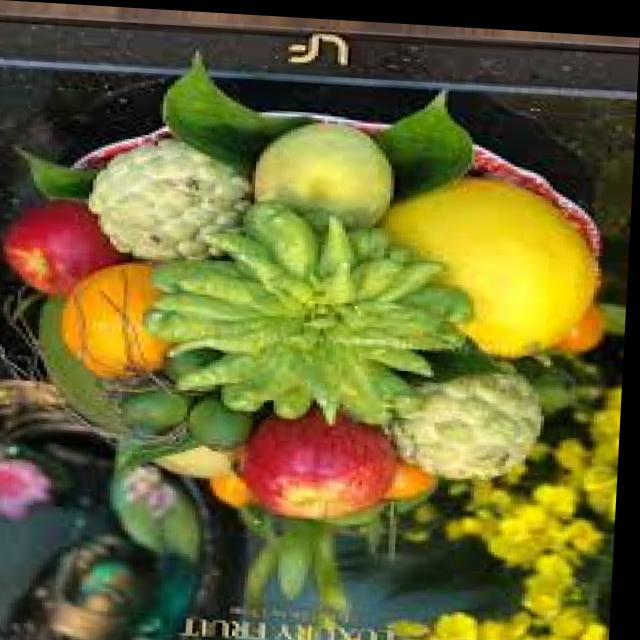PhatThu: (144, 201, 477, 424)
